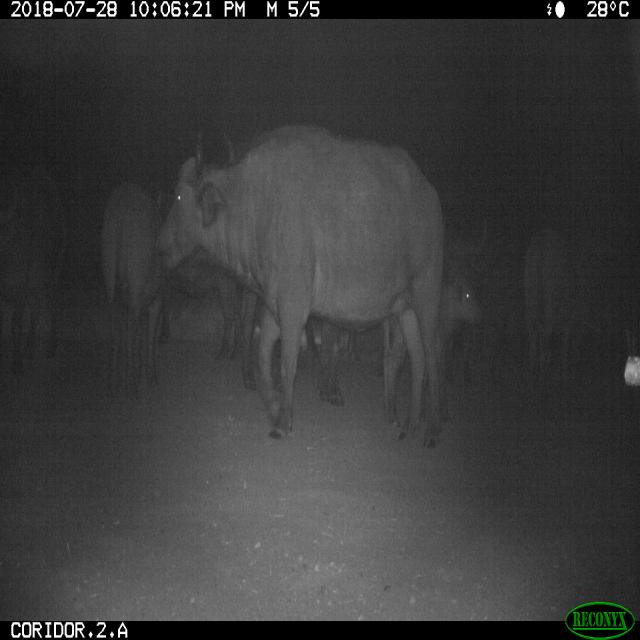buffalo: (157, 127, 452, 426)
